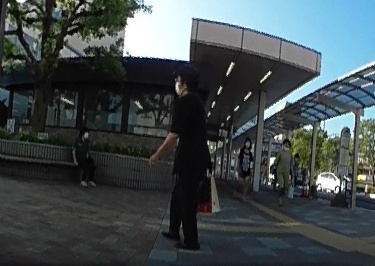person: (164, 64, 212, 247), (72, 126, 97, 186), (273, 138, 294, 204), (239, 134, 255, 190), (290, 151, 301, 187)
